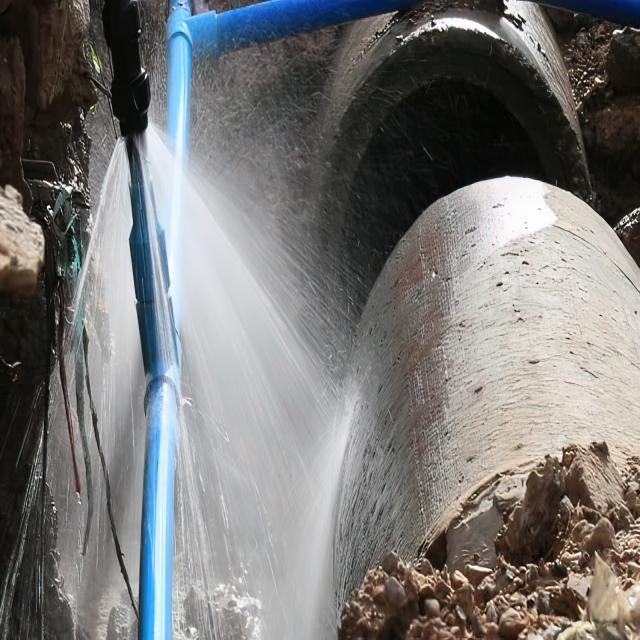leak: (0, 118, 375, 640)
